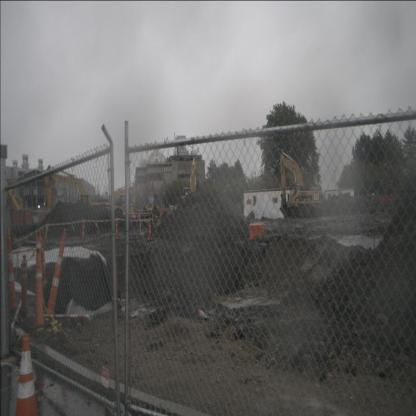barrier: (249, 221, 265, 242)
cone: (9, 335, 43, 416), (45, 228, 67, 316), (31, 230, 48, 329), (4, 228, 18, 314), (19, 253, 32, 320), (80, 219, 86, 245), (114, 217, 120, 241), (147, 218, 153, 240)
